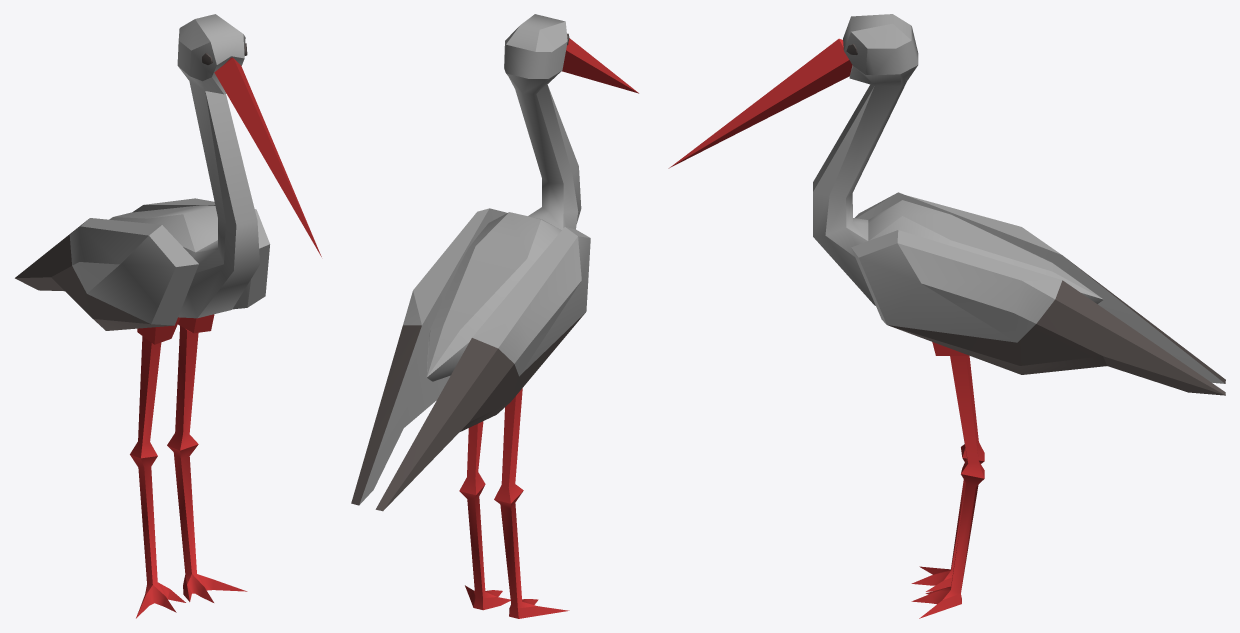
File: Stork.fbx
3 views of the same model, side by side, from view 1: azimuth 30°, elevation 25°; view 2: azimuth 150°, elevation 25°; view 3: azimuth 270°, elevation 25° (orthographic). The views are drawn at different scales.
Visible parts, largest first — view 1: Stork; view 2: Stork; view 3: Stork.
Boxes of the visible parts, x1=… form: Stork: x1=15, y1=14, x2=321, y2=618; Stork: x1=351, y1=14, x2=638, y2=618; Stork: x1=668, y1=14, x2=1225, y2=618.
Bounding box in the file's own units: 11.22 × 45.7 × 40.27.
